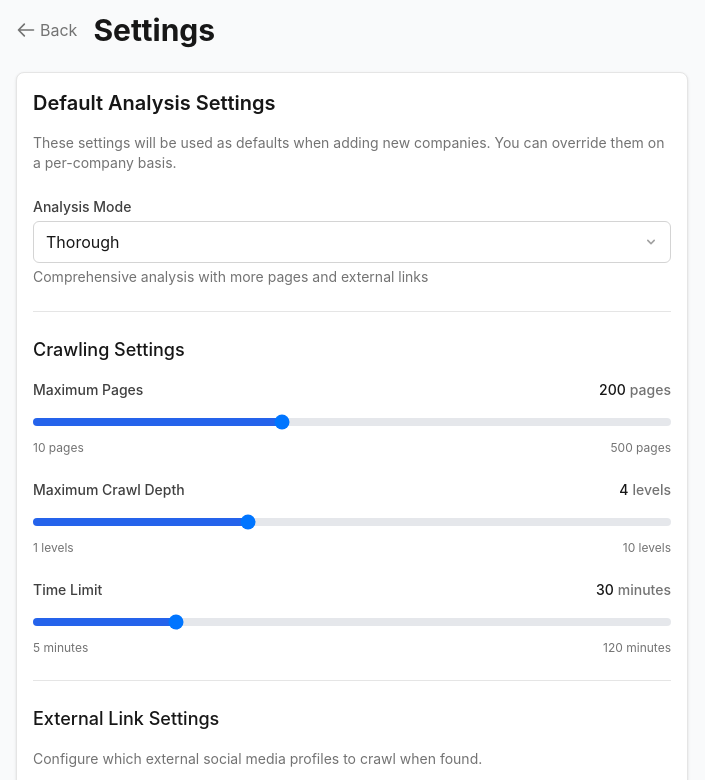
TestModePresets (UI-08) › Quick mode sets fast configuration
Note: Select Quick mode
Select "Quick" in the dropdown labelled "Analysis Mode": point(352, 242) [33,221,671,263]
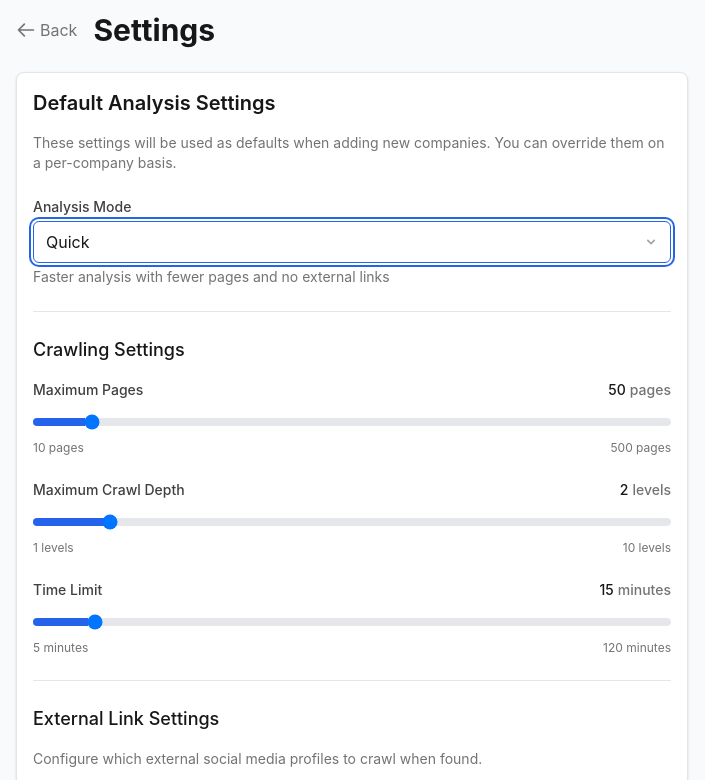
Check: the slider labelled "Maximum Pages" holds "50", box [33,418,671,426]
Check: the slider labelled "Maximum Crawl Depth" holds "2", box [33,518,671,526]
